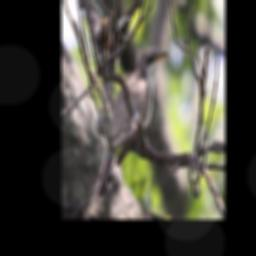Cuckoo: (97, 41, 170, 201)
